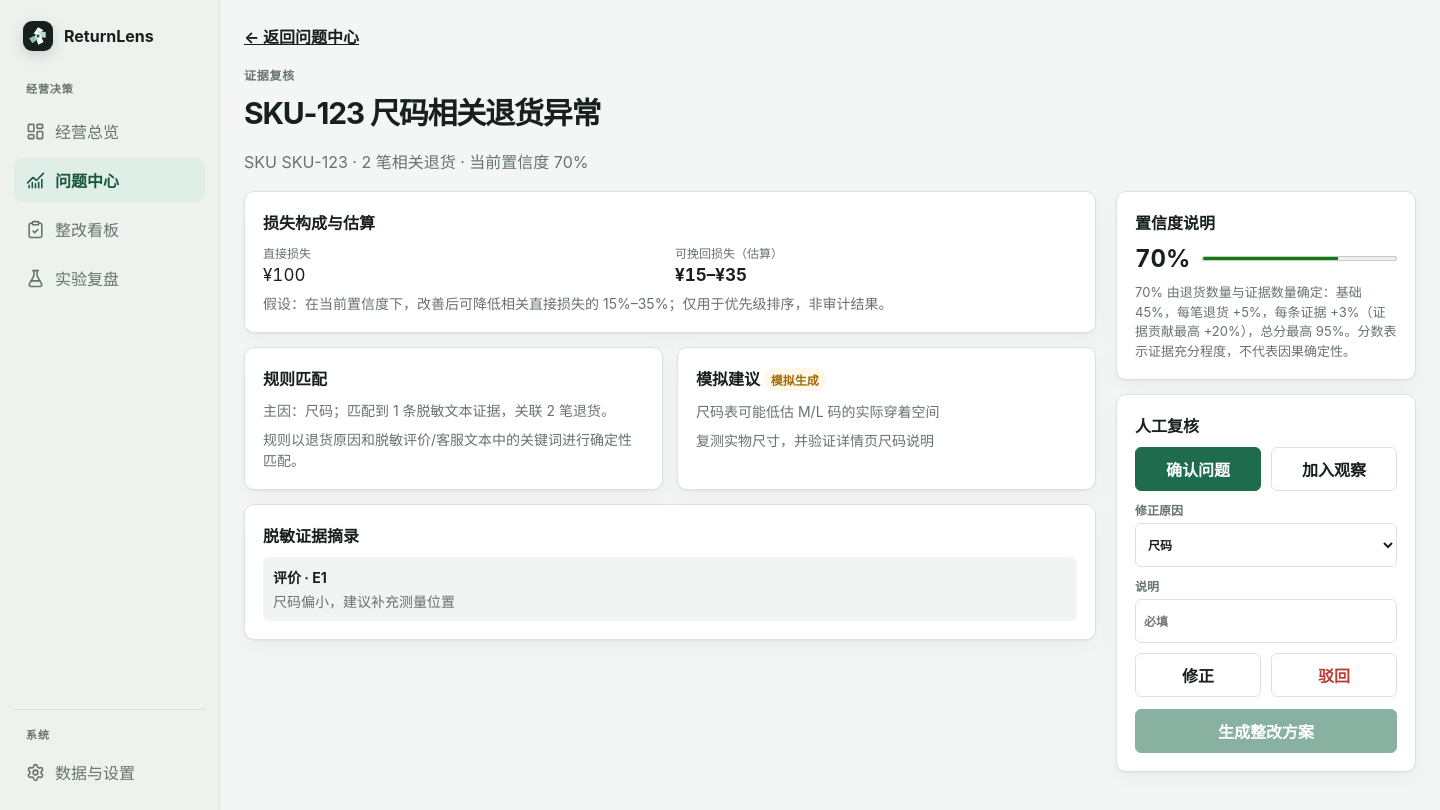
Test: announces a blocking draft error and restores keyboard focus on Escape
This screenshot has width=1440, height=810.
Click the button "确认问题" at (1198, 469), box 1135,447 -> 1261,491
(page scrolled)
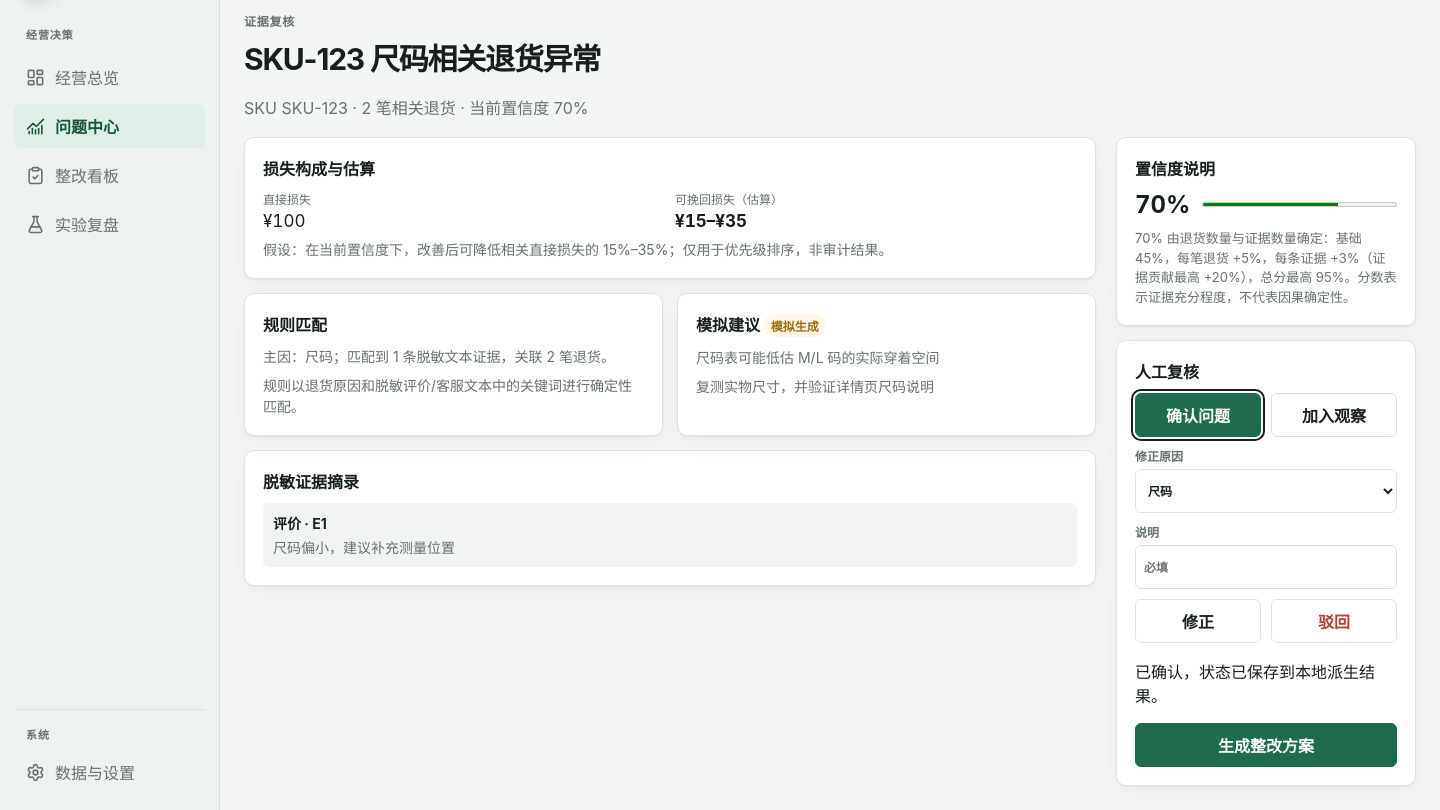
Click the button "生成整改方案" at (1266, 745), box 1135,723 -> 1397,767
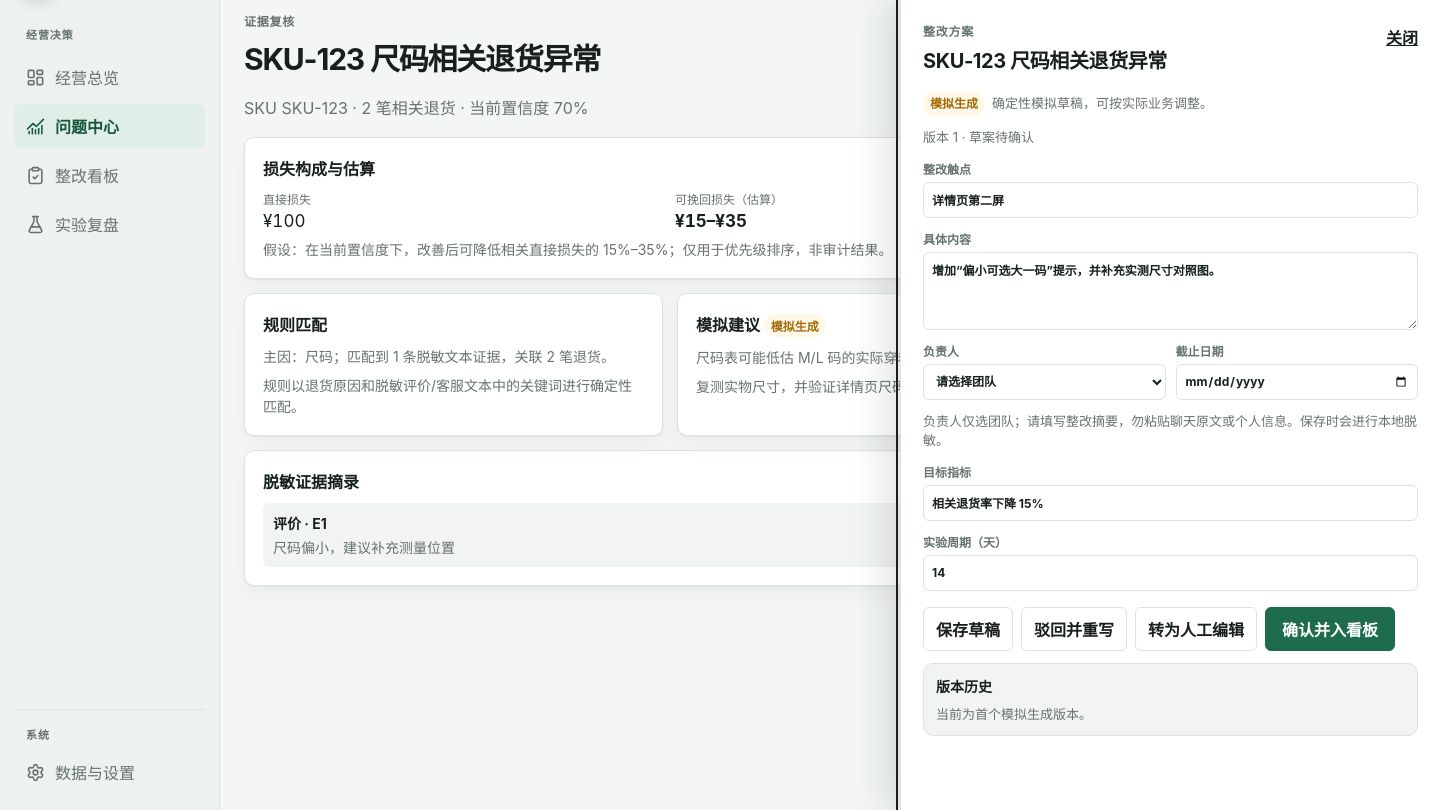
Check: the dropdown labelled "负责人" is shown, box 923,364 -> 1166,400
Click the button "确认并入看板" at (1330, 628), box 1265,606 -> 1395,650
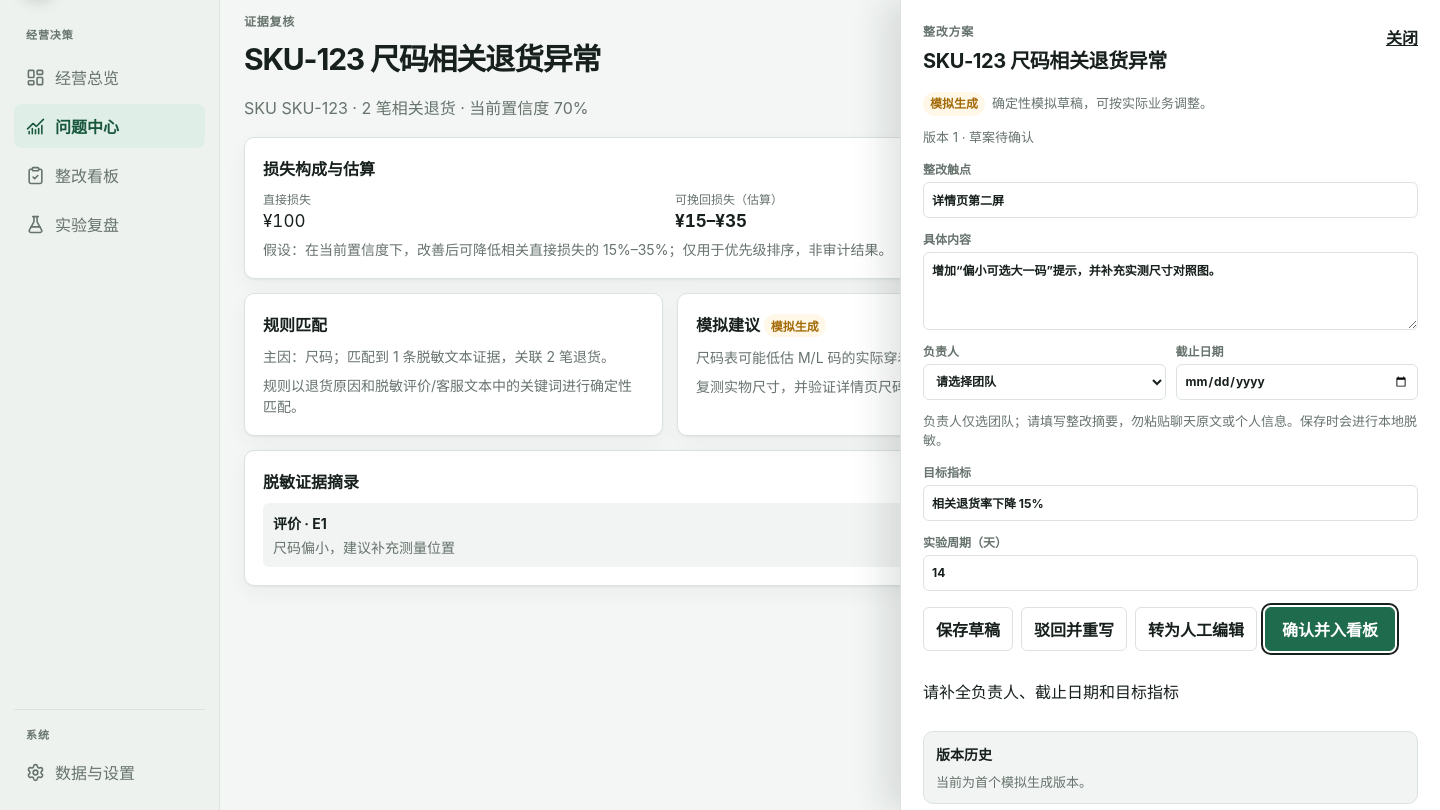
Check: the message shows "负责人", box 923,682 -> 1179,702
Press Escape
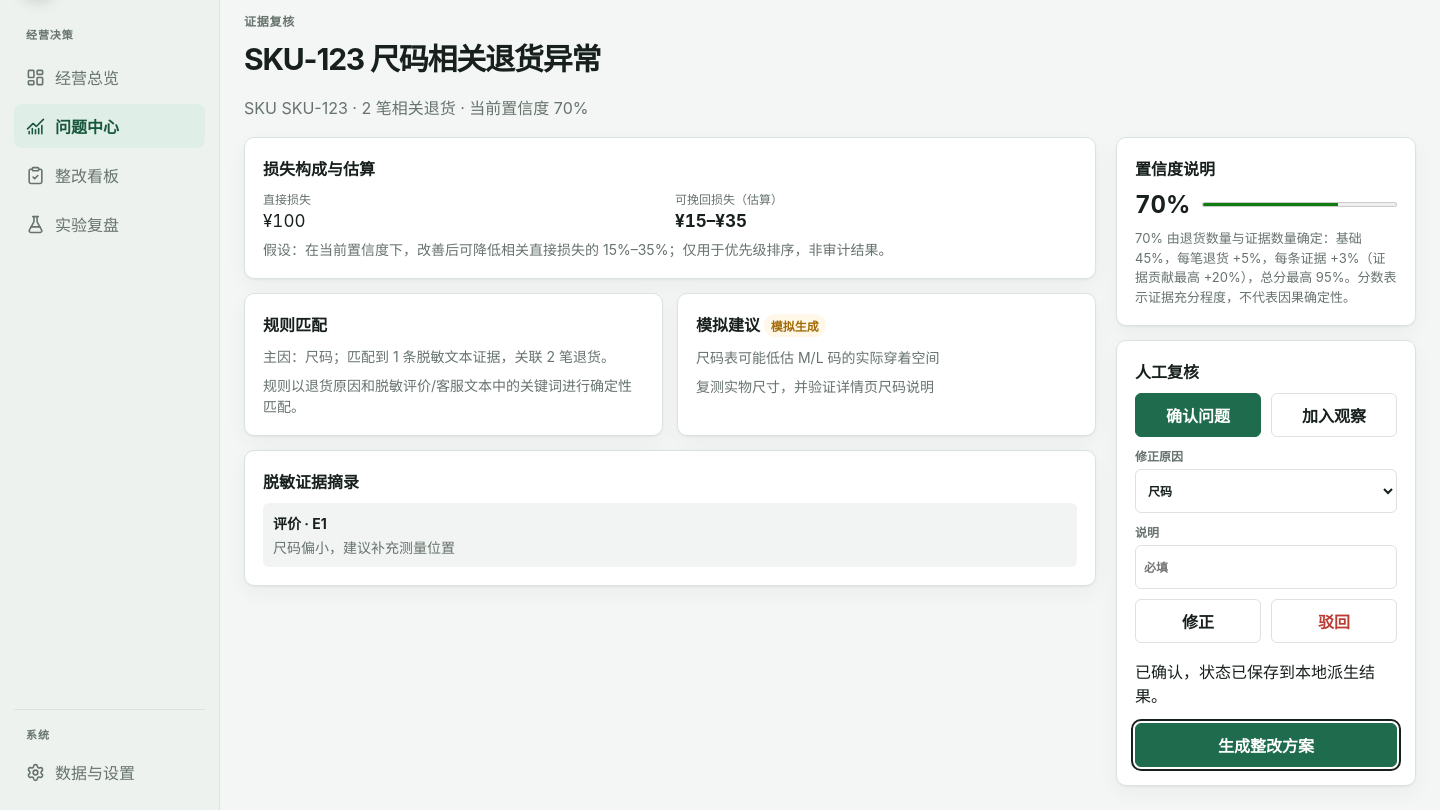
Check: the dialog is gone
